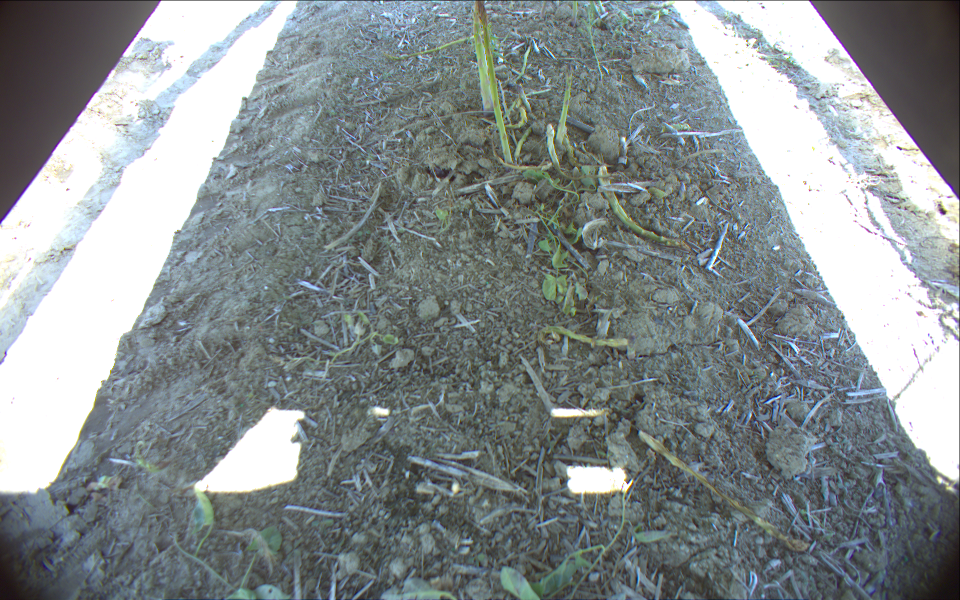aspa: (474, 1, 517, 170), (466, 1, 496, 117), (551, 73, 573, 146)
